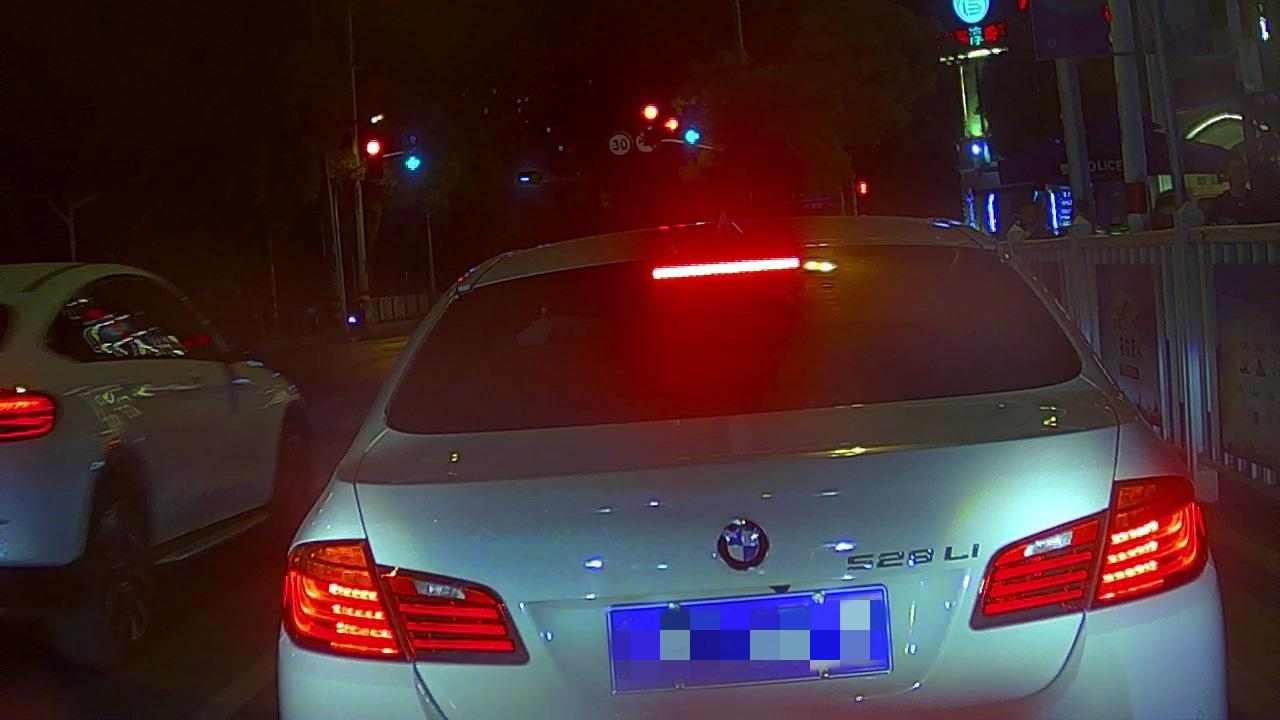traffic_light: (640, 99, 660, 144), (364, 137, 384, 176), (661, 115, 682, 136), (404, 150, 423, 173), (683, 128, 701, 146)
